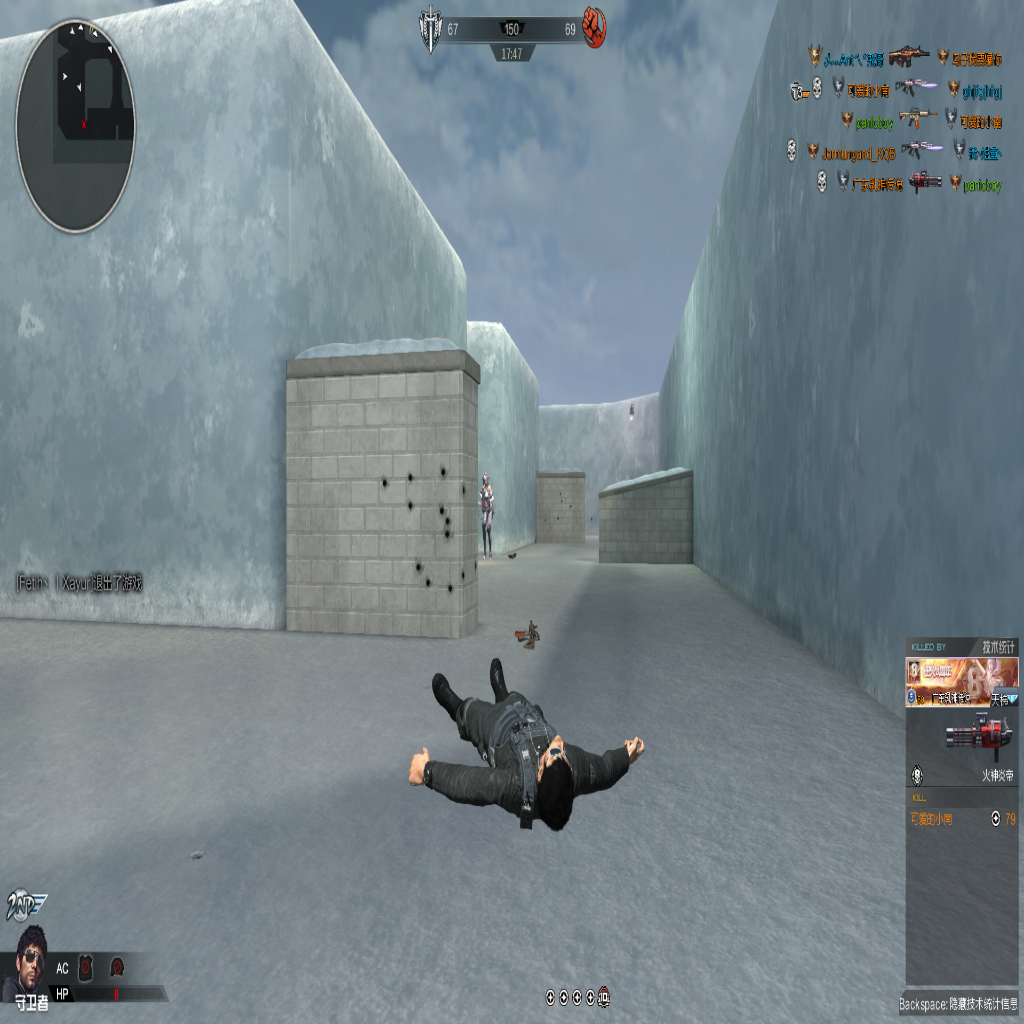tt: (479, 469, 493, 561)
